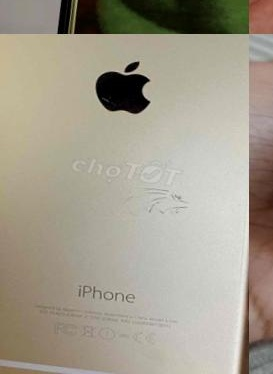scratch: (89, 159, 230, 252)
